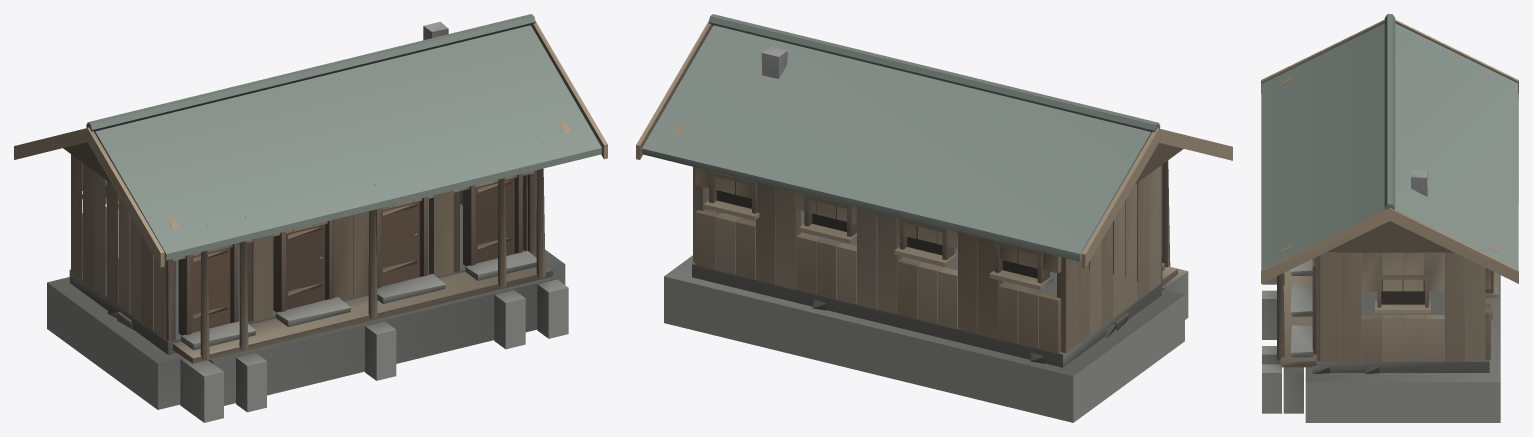
The model's file is washhouse.lod1.glb.
3 renders of one model, left to right at view 1: azimuth 30°, elevation 25°; view 2: azimuth 150°, elevation 25°; view 3: azimuth 270°, elevation 25°, orthographic. The views are drawn at different scales.
Bounding box in the file's own units: 10.38 × 5.69 × 5.9.
